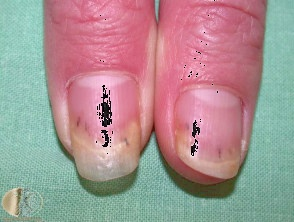Nail_psoriasis: (54, 58, 152, 186), (166, 75, 253, 183)
